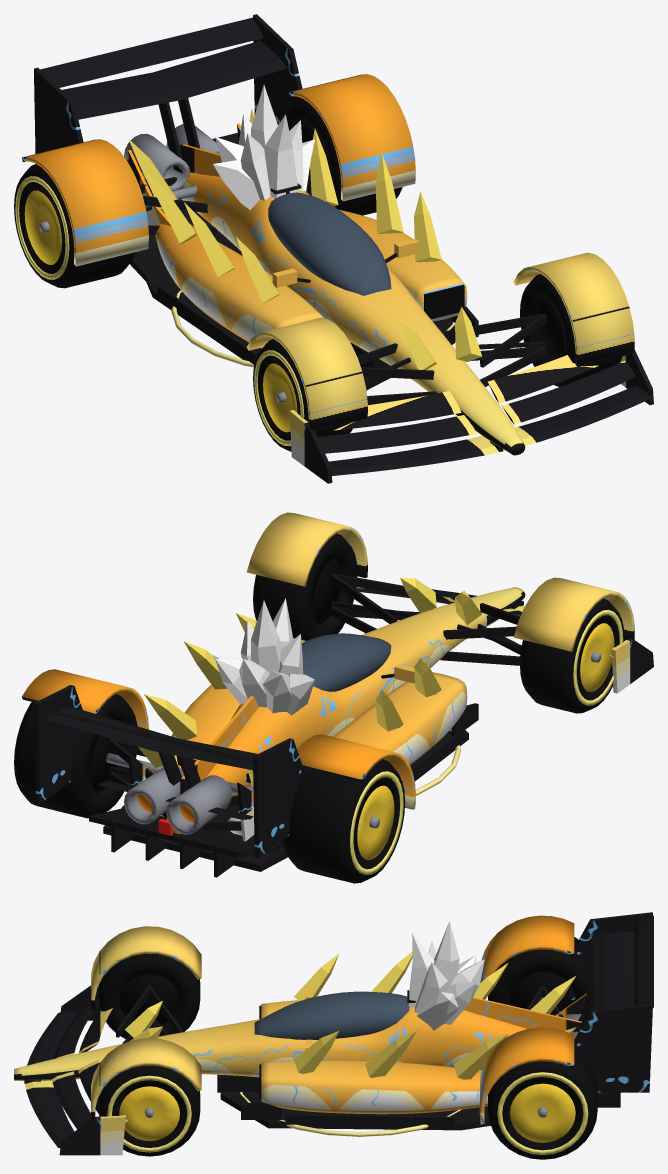
The model's file is warrior_c.fbx.
3 renders of one model, top to bottom at view 1: azimuth 30°, elevation 25°; view 2: azimuth 150°, elevation 25°; view 3: azimuth 270°, elevation 25°, orthographic. The views are drawn at different scales.
Visible parts, largest first — view 1: Body, Trim, Glow, Glass, Acc, Wheel_RL, Wheel_FL, Wheel_FR, Wheel_RR; view 2: Body, Trim, Wheel_RL, Wheel_FL, Acc, Wheel_RR, Glow, Wheel_FR, Glass; view 3: Body, Wheel_RR, Trim, Wheel_FR, Glow, Wheel_FL, Glass, Acc, Wheel_RL.
Boxes of the visible parts, box(x1,y1,x2,y2) form: Body: box(21, 14, 653, 483); Trim: box(124, 88, 547, 451); Glow: box(128, 108, 481, 369); Glass: box(268, 192, 391, 295); Acc: box(213, 84, 314, 210); Wheel_RL: box(14, 164, 135, 288); Wheel_FL: box(253, 339, 352, 451); Wheel_FR: box(520, 274, 622, 386); Wheel_RR: box(286, 99, 402, 215); Body: box(22, 512, 653, 857); Trim: box(89, 573, 523, 877); Wheel_RL: box(282, 759, 405, 883); Wheel_FL: box(520, 598, 624, 713); Acc: box(213, 598, 314, 715); Wheel_RR: box(14, 694, 137, 818); Glow: box(137, 578, 481, 841); Wheel_FR: box(253, 533, 357, 640); Glass: box(301, 633, 391, 691); Body: box(14, 912, 653, 1155); Wheel_RR: box(488, 1050, 597, 1159); Trim: box(24, 978, 620, 1130); Wheel_FR: box(98, 1065, 200, 1156); Glow: box(125, 952, 576, 1136); Wheel_FL: box(98, 953, 200, 1038); Glass: box(254, 991, 409, 1039); Acc: box(408, 921, 484, 1030); Wheel_RL: box(488, 937, 593, 1015).
Size of the model in its own units: 9.91 by 5.61 by 18.88.
Materials: 5 (1 with a texture image).
